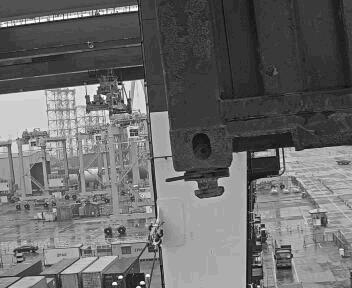twist_lock_1: (168, 166, 231, 201)
